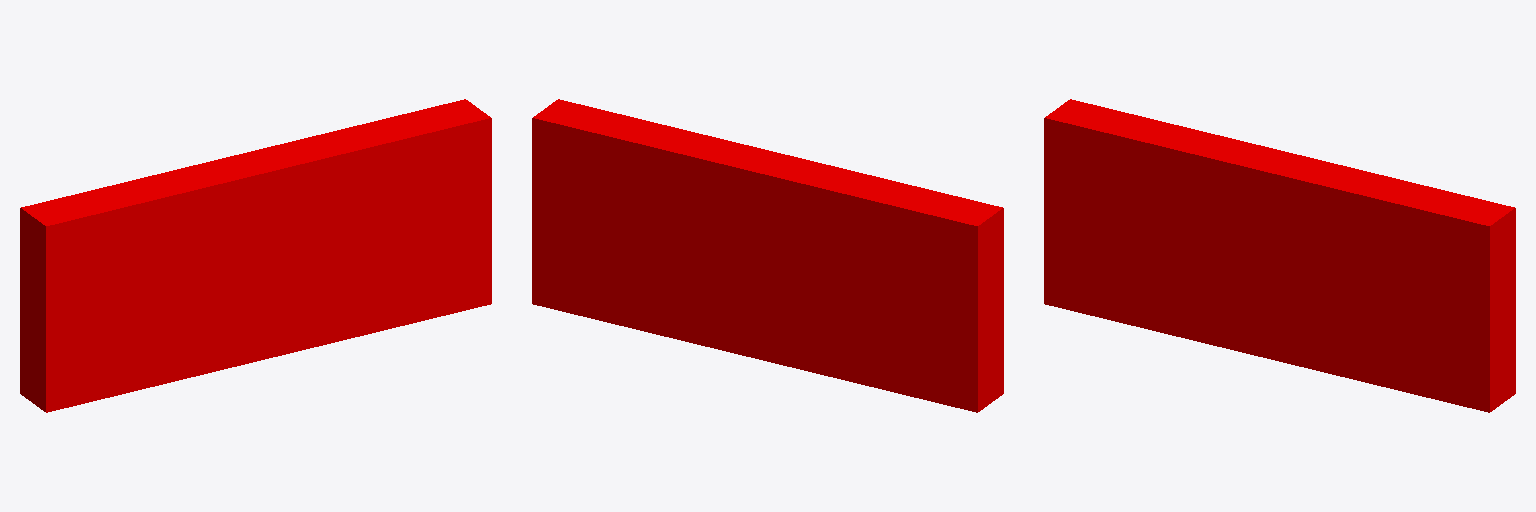
The robot description file, URDF, robot "task2_obstacle.urdf":
<?xml version="0.0" ?>
<robot name="task2_obstacle.urdf">
  <link name="obstaclebase">
    <contact>
      <lateral_friction value="10.0"/>
      <inertia_scaling value="3.0"/>
    </contact>
    <inertial>
      <origin rpy="0 0 0" xyz="0 0 0"/>
       <mass value=".01"/>
       <inertia ixx="1" ixy="0" ixz="0" iyy="1" iyz="0" izz="1"/>
    </inertial>
    <visual>
      <origin rpy="0 0 0" xyz="0 0 0"/>
      <geometry>
        <mesh filename="task2_obstacle.obj"/>
      </geometry>
       <material name="red">
        <color rgba="1 0 0 1"/>
      </material>
    </visual>
    <collision concave="yes">
      <origin rpy="0 0 0" xyz="0 0 0"/>
      <geometry>
	 	<box size=".3 .03 .12"/>
      </geometry>
    </collision>
  </link>
  
</robot>

--- Render facts (derived) ---
The picture shows the robot from 3 angles, left to right: view 1: azimuth 30°, elevation 25°; view 2: azimuth 150°, elevation 25°; view 3: azimuth 330°, elevation 25°; orthographic projection.
Model task2_obstacle.urdf with 1 links and 0 joints (none), rooted at obstaclebase, posed all joints at 0.
Visible links, largest first — view 1: obstaclebase; view 2: obstaclebase; view 3: obstaclebase.
Link boxes in pixels (<box>): obstaclebase: <box>20,99,491,412</box>; obstaclebase: <box>532,99,1003,412</box>; obstaclebase: <box>1044,99,1515,412</box>.
Bounding box of the posed robot: 0.3 × 0.03 × 0.12 m (x, y, z).
1 mesh visuals loaded from 1 distinct referenced files (1 OBJ).